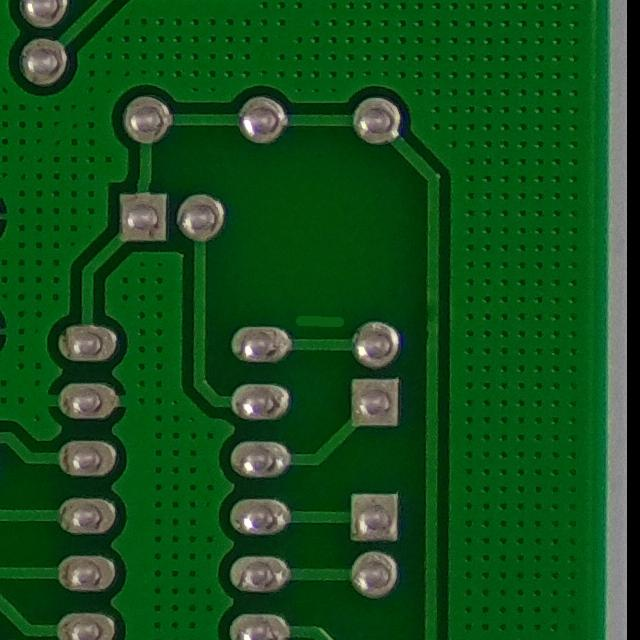spurious_copper: (289, 306, 352, 334)
